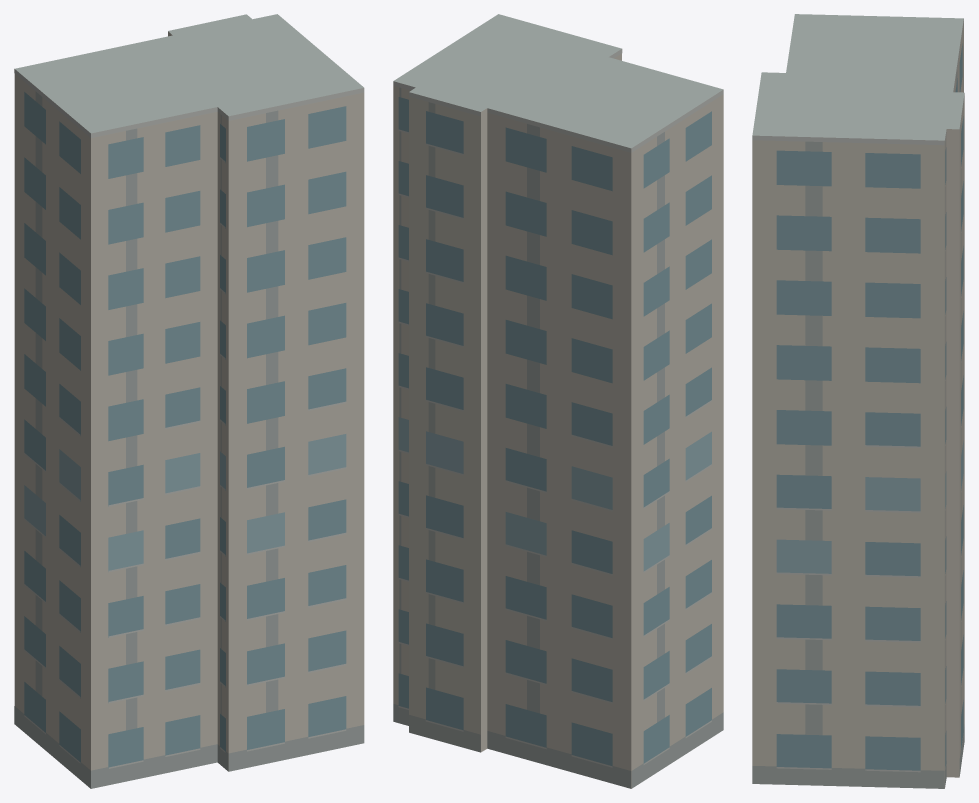
The model's file is survey-upis-32903641.glb.
The picture shows the model from 3 angles, left to right: view 1: azimuth 30°, elevation 25°; view 2: azimuth 150°, elevation 25°; view 3: azimuth 270°, elevation 25°; orthographic projection. The views are drawn at different scales.
Parts seen in each view (by area): view 1: survey-upis-32903641.tmp; view 2: survey-upis-32903641.tmp; view 3: survey-upis-32903641.tmp.
Part boxes in pixels (x1,y1,x2,y2): survey-upis-32903641.tmp: (14,14,364,788); survey-upis-32903641.tmp: (393,14,723,788); survey-upis-32903641.tmp: (752,14,964,788).
Size of the model in its own units: 14.38 by 34.3 by 10.19.
